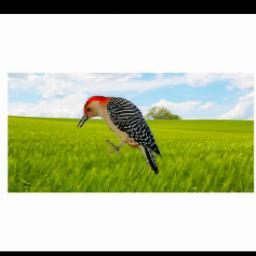Woodpecker: (76, 95, 162, 178)
